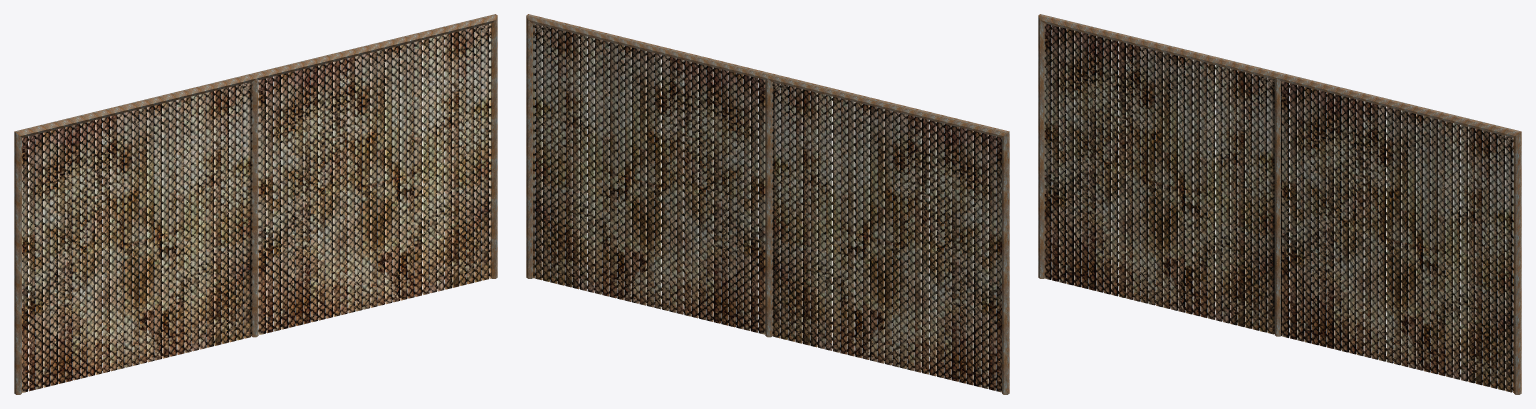
The model's file is fence5m.fbx.
The picture shows the model from 3 angles, left to right: view 1: azimuth 30°, elevation 25°; view 2: azimuth 150°, elevation 25°; view 3: azimuth 330°, elevation 25°; orthographic projection.
Parts seen in each view (by area): view 1: mesh_0, mesh_1; view 2: mesh_0, mesh_1; view 3: mesh_0, mesh_1.
Part boxes in pixels (x1=…): mesh_0: x1=22, y1=23, x2=491, y2=392; mesh_1: x1=14, y1=14, x2=497, y2=394; mesh_0: x1=533, y1=23, x2=1001, y2=392; mesh_1: x1=526, y1=14, x2=1009, y2=394; mesh_0: x1=1044, y1=23, x2=1513, y2=392; mesh_1: x1=1038, y1=14, x2=1521, y2=394.
Size of the model in its own units: 500 by 260 by 7.3.
2 materials, 2 textured.
